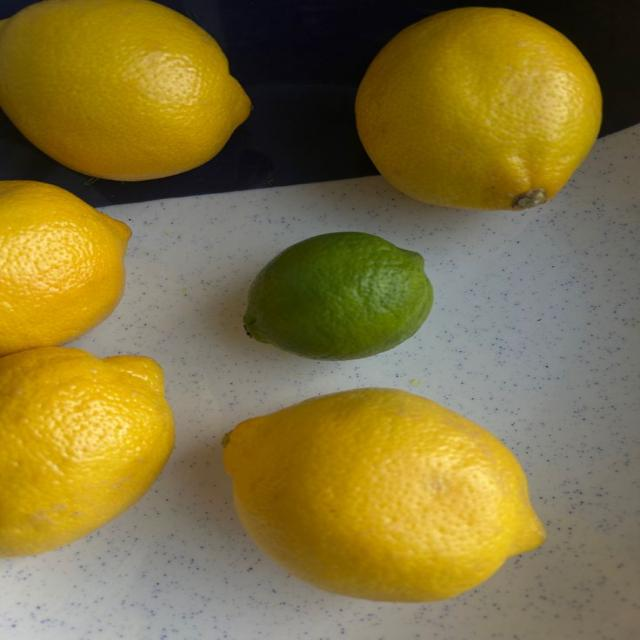lemon: (224, 389, 545, 601), (355, 7, 601, 209), (0, 0, 250, 180), (0, 348, 173, 557), (244, 232, 433, 360), (0, 181, 131, 355)
